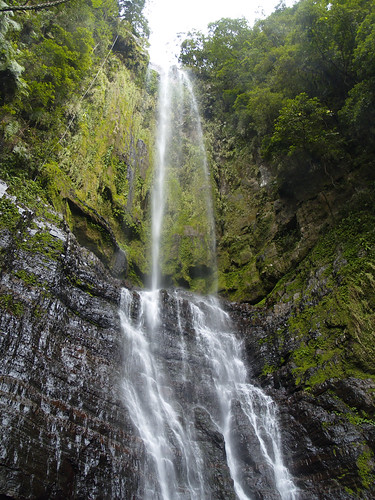wufengciWaterfall: (89, 58, 286, 499)
